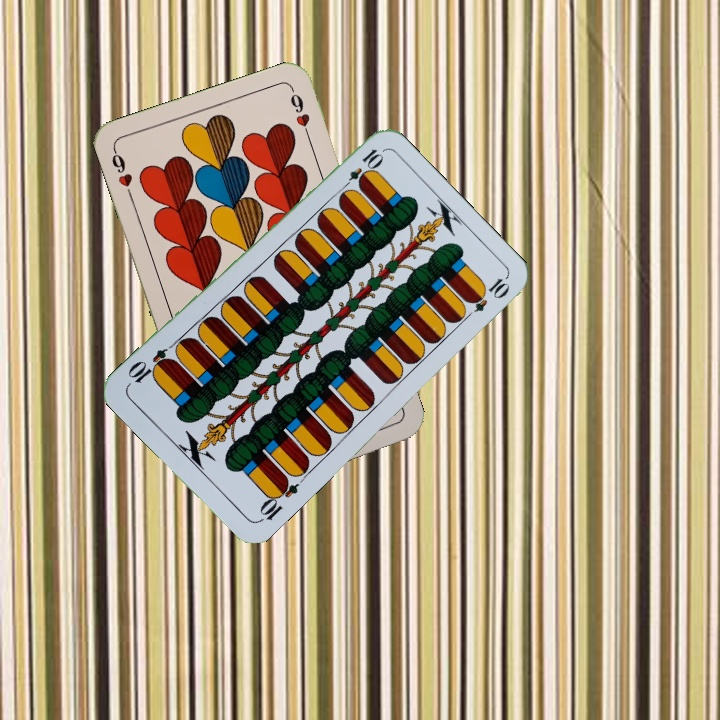E10: (254, 473, 301, 525), (337, 144, 385, 194)
H9: (107, 145, 136, 203)
